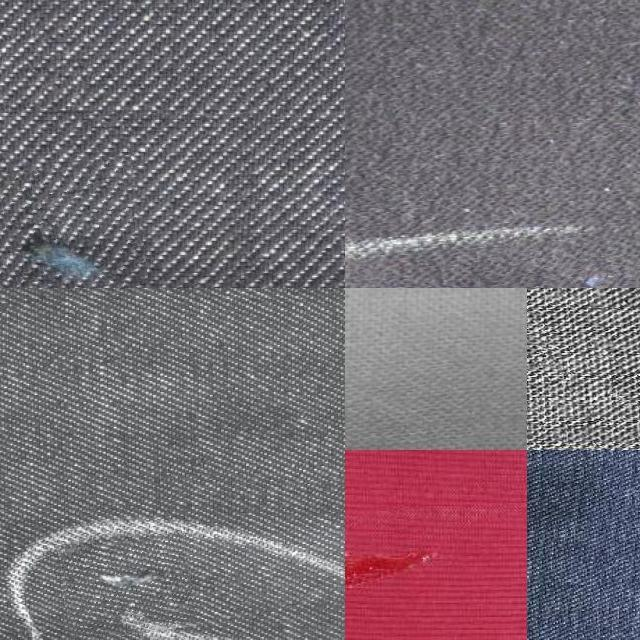Hole: (345, 520, 467, 626)
Thread_other: (0, 160, 149, 288), (60, 537, 192, 639), (478, 236, 640, 288)
